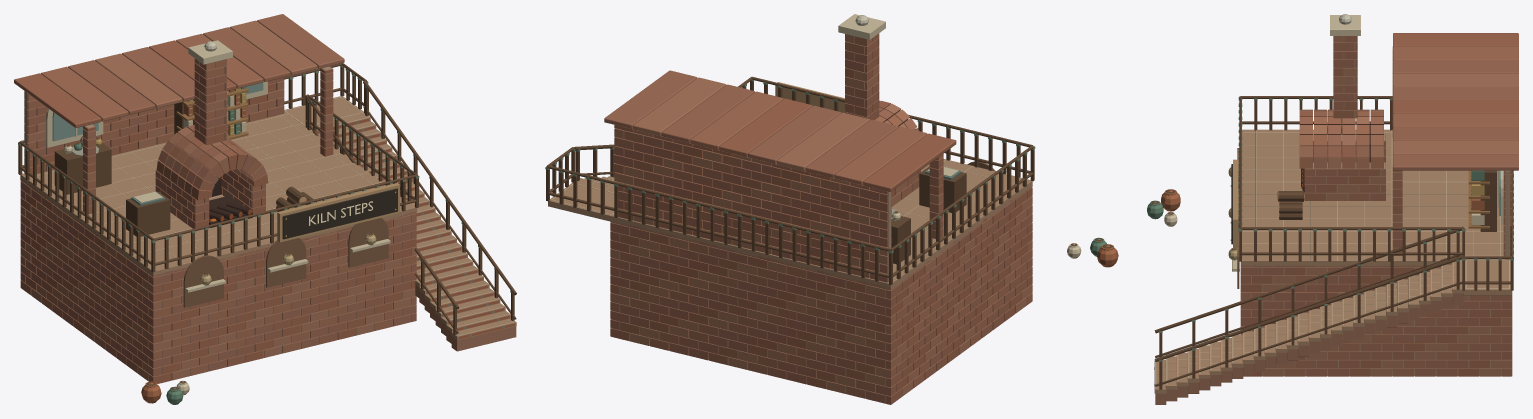
Rendered from kiln-steps.glb.
3 renders of one model, left to right at view 1: azimuth 30°, elevation 25°; view 2: azimuth 150°, elevation 25°; view 3: azimuth 270°, elevation 25°, orthographic. The views are drawn at different scales.
Visible parts, largest first — view 1: kiln-steps_Architecture_Mesh, kiln-steps_Roof_Mesh; view 2: kiln-steps_Architecture_Mesh, kiln-steps_Roof_Mesh; view 3: kiln-steps_Architecture_Mesh, kiln-steps_Roof_Mesh.
Boxes of the visible parts, x1,y1,x2,y2 form: kiln-steps_Architecture_Mesh: (18,40,516,404); kiln-steps_Roof_Mesh: (14,14,344,127); kiln-steps_Architecture_Mesh: (545,14,1118,404); kiln-steps_Roof_Mesh: (604,70,956,191); kiln-steps_Architecture_Mesh: (1147,15,1513,404); kiln-steps_Roof_Mesh: (1393,33,1518,170).
Size of the model in its own units: 11.19 by 8.11 by 9.59.
